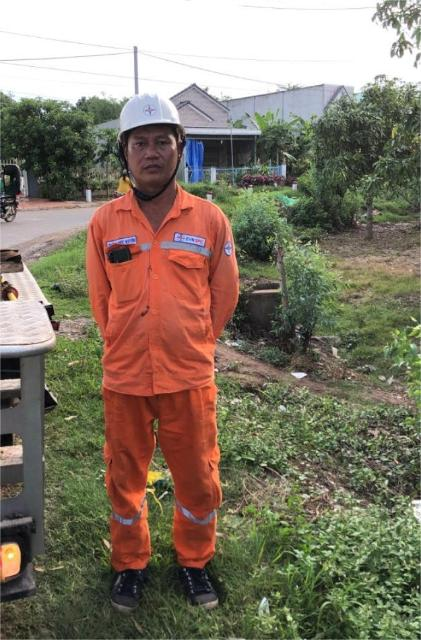helmet: (112, 92, 187, 153)
shoes: (152, 539, 235, 619), (100, 549, 157, 617)
